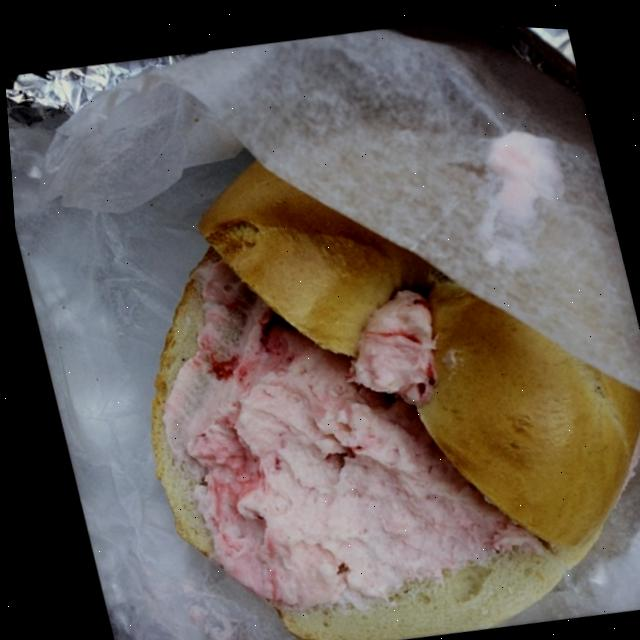面包点心: (84, 108, 640, 640)
